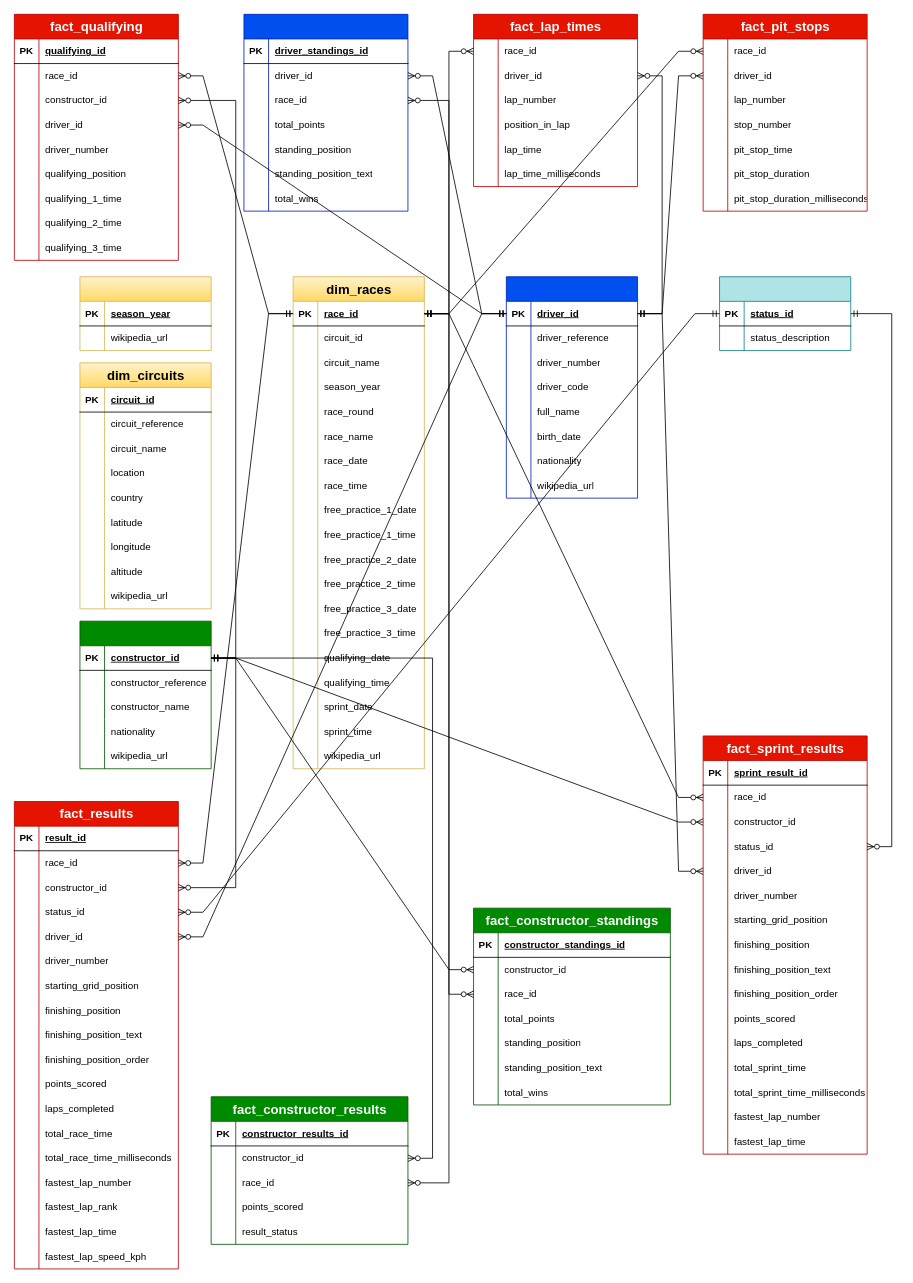
The diagram is 913 pixels wide and 1283 high, and some of its shapes have lost their labels. Here are the shapes that lost their labels. From the top down, the box of each, then its label:
(243, 14, 408, 211): fact_driver_standings
(79, 276, 211, 351): dim_seasons
(719, 276, 851, 351): dim_status
(506, 276, 638, 498): dim_drivers
(79, 620, 211, 769): dim_constructors
